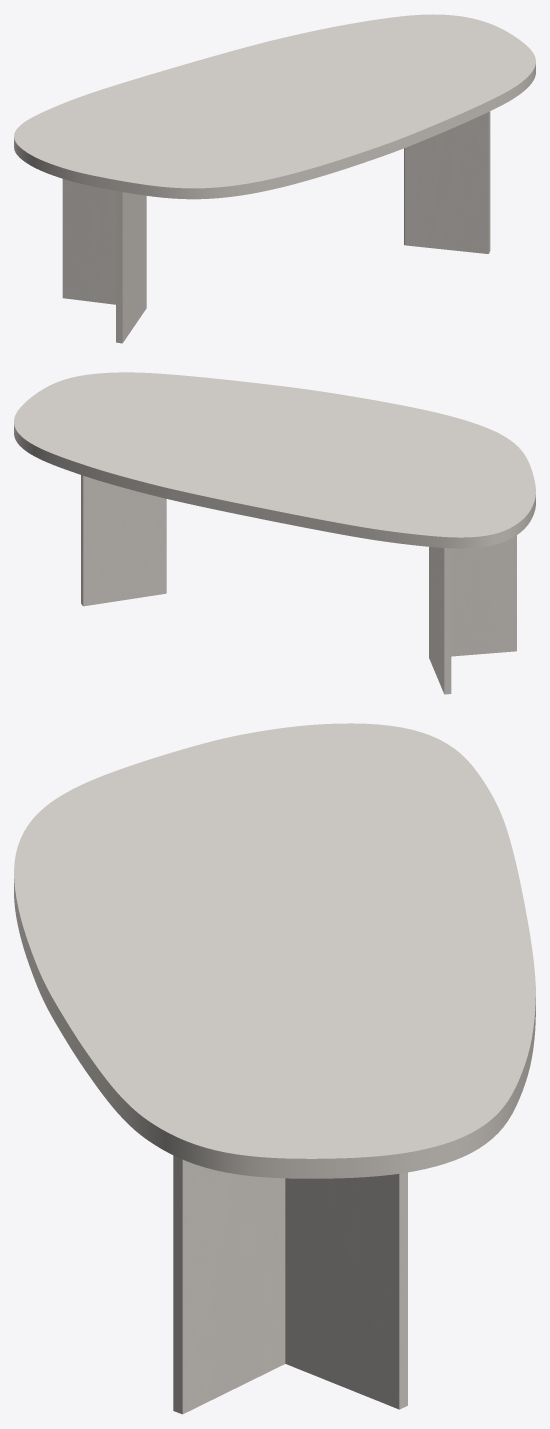
The model's file is pearlwhite_leaf2_standard_valleyv.glb.
3 renders of one model, top to bottom at view 1: azimuth 30°, elevation 25°; view 2: azimuth 150°, elevation 25°; view 3: azimuth 270°, elevation 25°, orthographic. The views are drawn at different scales.
Visible parts, largest first — view 1: standard_leaf2, valleyv; view 2: standard_leaf2, valleyv; view 3: standard_leaf2, valleyv.
Part boxes in pixels (x1,y1,x2,y2): standard_leaf2: (14,14,535,199); valleyv: (62,111,490,343); standard_leaf2: (14,372,535,548); valleyv: (81,475,516,694); standard_leaf2: (14,723,535,1178); valleyv: (173,1155,407,1414).
Size of the model in its own units: 7.5 by 2.52 by 3.8.
1 material, 1 textured.
